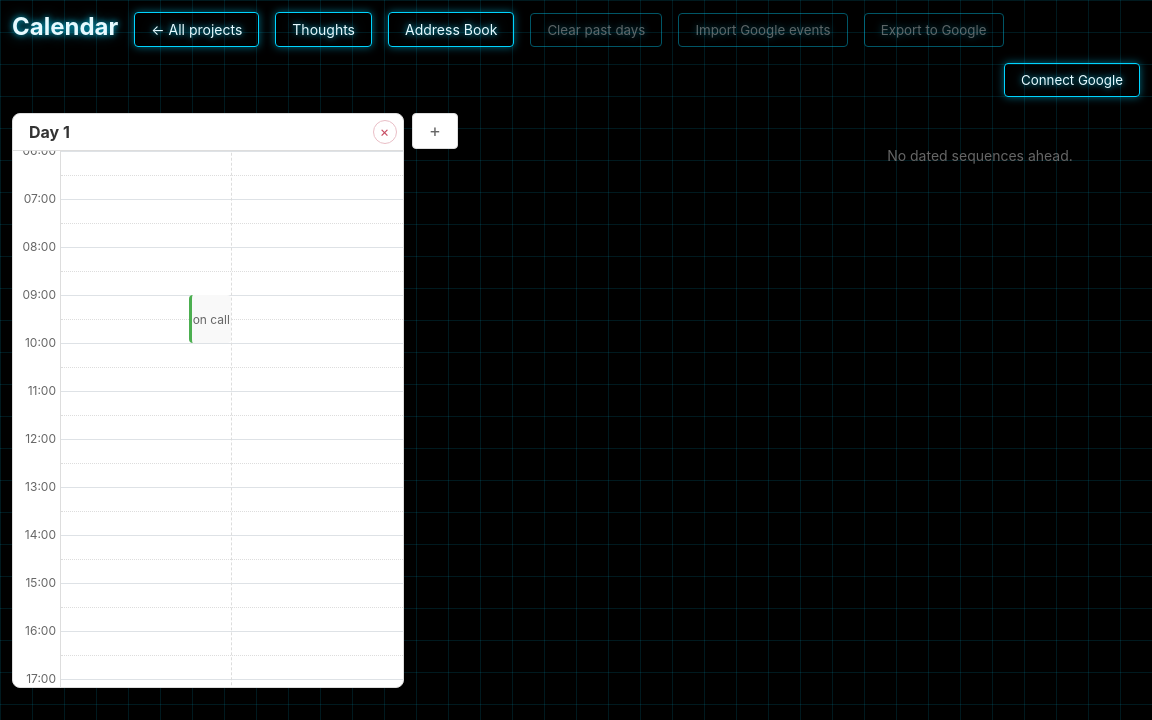
Test: notes on the page › shows a note write failure in the page toast
The width and height of the screenshot is (1152, 720).
(page scrolled)
Click the button "on call" at (211, 319), box [192, 295, 231, 343]
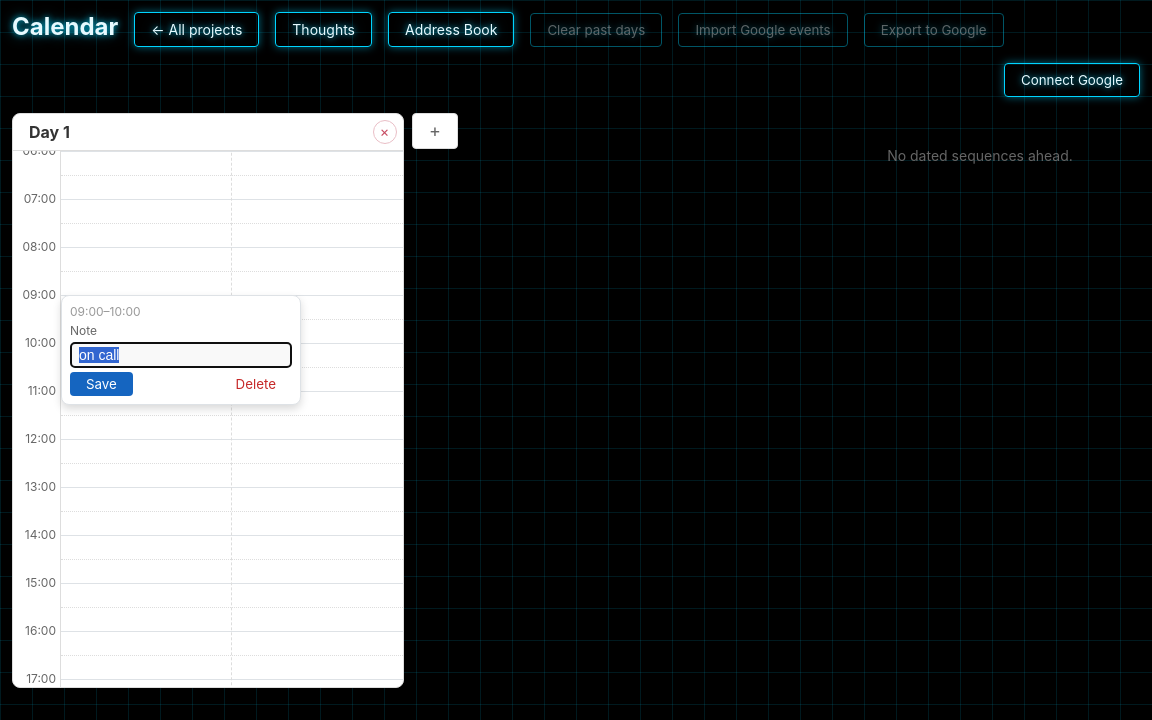
Click the button "Delete" at (256, 384), box [220, 372, 292, 396]
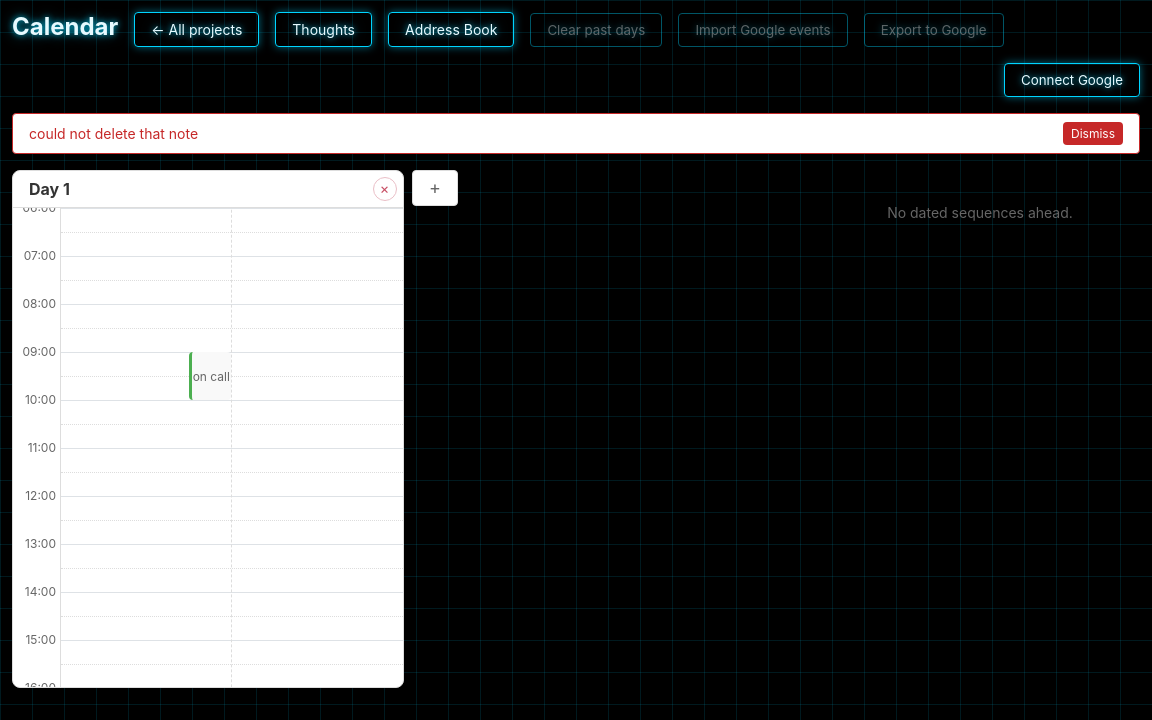
Now the text "could not delete that note" is shown, box [29, 125, 198, 142]
